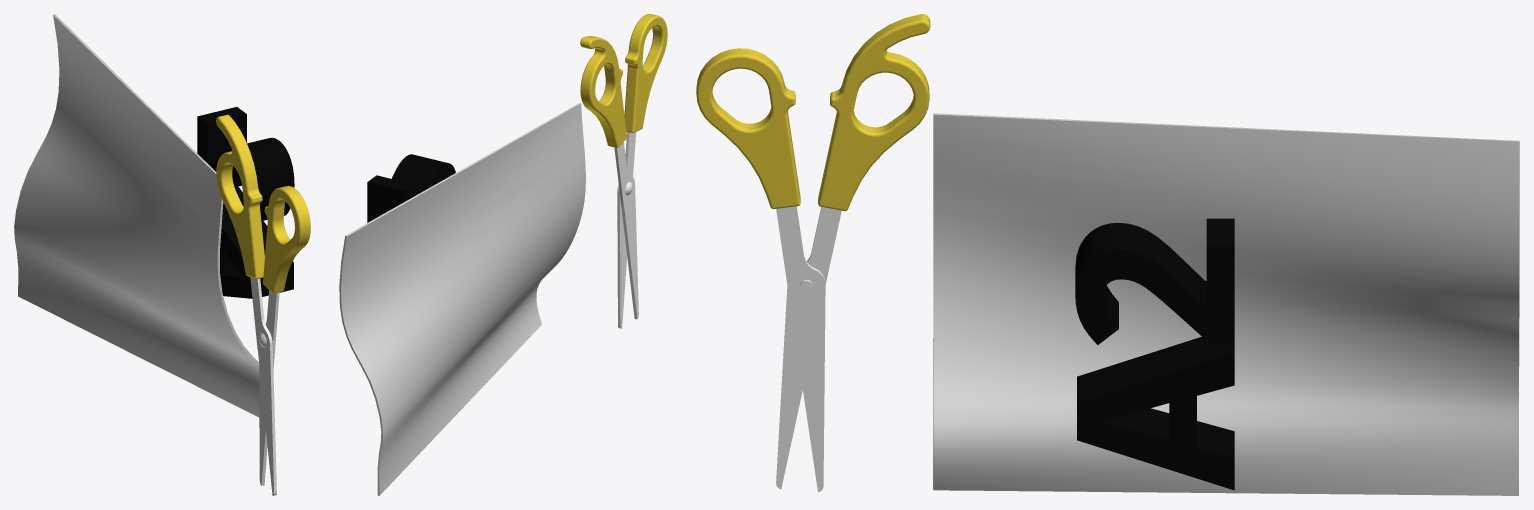
File: DrawingSlicer.gltf
3 renders of one model, left to right at view 1: azimuth 30°, elevation 25°; view 2: azimuth 150°, elevation 25°; view 3: azimuth 270°, elevation 25°, orthographic. The views are drawn at different scales.
Visible parts, largest first — view 1: mesh4_meshnode_4, mesh54_meshnode_54, mesh117_meshnode_117, mesh166_meshnode_166, mesh37_meshnode_37, mesh200_meshnode_200, mesh8_meshnode_8, mesh16_meshnode_16, mesh83_meshnode_83, mesh15_meshnode_15, mesh40_meshnode_40, mesh61_meshnode_61 (+7 smaller); view 2: mesh4_meshnode_4, mesh54_meshnode_54, mesh117_meshnode_117, mesh166_meshnode_166, mesh6_meshnode_6, mesh200_meshnode_200, mesh3_meshnode_3, mesh2_meshnode_2, mesh12_meshnode_12, mesh131_meshnode_131, mesh28_meshnode_28, mesh197_meshnode_197 (+2 smaller); view 3: mesh5_meshnode_5, mesh36_meshnode_36, mesh27_meshnode_27, mesh193_meshnode_193, mesh108_meshnode_108, mesh175_meshnode_175, mesh47_meshnode_47, mesh40_meshnode_40, mesh34_meshnode_34, mesh44_meshnode_44, mesh2_meshnode_2.
Part boxes in pixels (bbox=[...]): mesh4_meshnode_4: bbox=[14, 15, 259, 417]; mesh54_meshnode_54: bbox=[250, 277, 273, 495]; mesh117_meshnode_117: bbox=[216, 119, 254, 277]; mesh166_meshnode_166: bbox=[263, 190, 298, 291]; mesh37_meshnode_37: bbox=[220, 228, 252, 298]; mesh200_meshnode_200: bbox=[259, 290, 276, 485]; mesh8_meshnode_8: bbox=[207, 114, 246, 165]; mesh16_meshnode_16: bbox=[256, 166, 294, 192]; mesh83_meshnode_83: bbox=[221, 115, 256, 189]; mesh15_meshnode_15: bbox=[252, 150, 292, 174]; mesh40_meshnode_40: bbox=[221, 186, 293, 262]; mesh61_meshnode_61: bbox=[251, 207, 264, 277]; mesh4_meshnode_4: bbox=[341, 103, 585, 495]; mesh54_meshnode_54: bbox=[617, 142, 638, 318]; mesh117_meshnode_117: bbox=[591, 40, 626, 145]; mesh166_meshnode_166: bbox=[634, 18, 667, 131]; mesh6_meshnode_6: bbox=[367, 182, 403, 222]; mesh200_meshnode_200: bbox=[620, 132, 635, 328]; mesh3_meshnode_3: bbox=[339, 236, 382, 495]; mesh2_meshnode_2: bbox=[345, 103, 580, 236]; mesh12_meshnode_12: bbox=[393, 163, 435, 184]; mesh131_meshnode_131: bbox=[625, 68, 635, 131]; mesh28_meshnode_28: bbox=[404, 163, 455, 201]; mesh197_meshnode_197: bbox=[617, 192, 620, 326]; mesh5_meshnode_5: bbox=[933, 114, 1518, 495]; mesh36_meshnode_36: bbox=[1077, 353, 1234, 490]; mesh27_meshnode_27: bbox=[1075, 245, 1234, 344]; mesh193_meshnode_193: bbox=[776, 206, 825, 492]; mesh108_meshnode_108: bbox=[821, 24, 926, 209]; mesh175_meshnode_175: bbox=[699, 58, 797, 207]; mesh47_meshnode_47: bbox=[776, 207, 841, 489]; mesh40_meshnode_40: bbox=[1077, 336, 1234, 403]; mesh34_meshnode_34: bbox=[1102, 408, 1169, 439]; mesh44_meshnode_44: bbox=[1197, 421, 1234, 457]; mesh2_meshnode_2: bbox=[933, 113, 1519, 141].
Bounding box in the file's own units: 0.0664 × 0.165 × 0.26.
